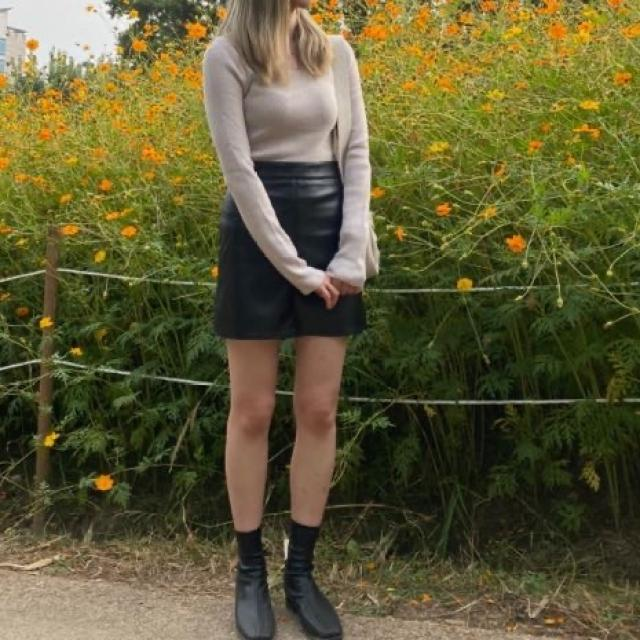longsleeve: (204, 28, 373, 292)
skirt: (214, 159, 365, 339)
